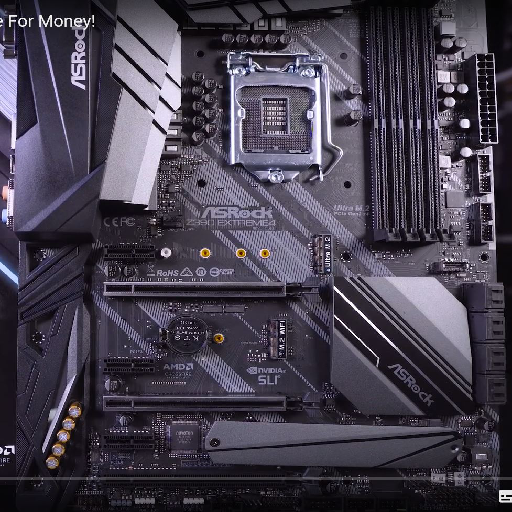CPU: (227, 51, 325, 183)
GPU: (103, 389, 328, 418), (98, 273, 323, 302)
MOTHERBOARD: (14, 1, 504, 509)
RAM: (362, 1, 457, 247)
SSD: (309, 232, 335, 279), (267, 315, 293, 362)
